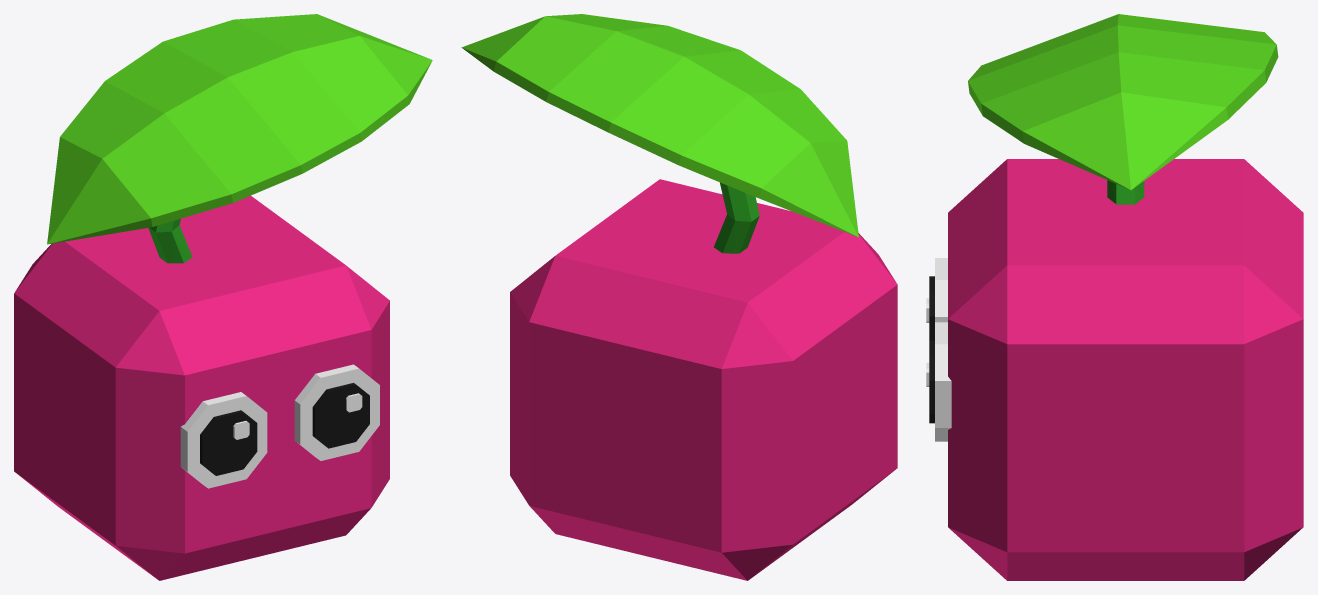
File: Leafy.fbx
3 renders of one model, left to right at view 1: azimuth 30°, elevation 25°; view 2: azimuth 150°, elevation 25°; view 3: azimuth 270°, elevation 25°, orthographic. The views are drawn at different scales.
Parts seen in each view (by area): view 1: Leafy, Leafy_Leaf, Leafy_Eyes, Leafy_Pupils, Leafy_Stem; view 2: Leafy, Leafy_Leaf, Leafy_Stem; view 3: Leafy, Leafy_Leaf, Leafy_Eyes, Leafy_Pupils, Leafy_Stem.
Part boxes in pixels (bbox=[...]): Leafy: bbox=[14, 195, 389, 580]; Leafy_Leaf: bbox=[47, 14, 432, 244]; Leafy_Eyes: bbox=[180, 364, 379, 488]; Leafy_Pupils: bbox=[200, 383, 369, 475]; Leafy_Stem: bbox=[148, 218, 192, 263]; Leafy: bbox=[510, 179, 897, 580]; Leafy_Leaf: bbox=[461, 14, 858, 237]; Leafy_Stem: bbox=[714, 182, 759, 253]; Leafy: bbox=[948, 159, 1303, 580]; Leafy_Leaf: bbox=[968, 14, 1278, 189]; Leafy_Eyes: bbox=[926, 258, 951, 441]; Leafy_Pupils: bbox=[929, 276, 934, 423]; Leafy_Stem: bbox=[1107, 180, 1144, 204].
Size of the model in its own units: 2.81 by 3.13 by 2.04.
